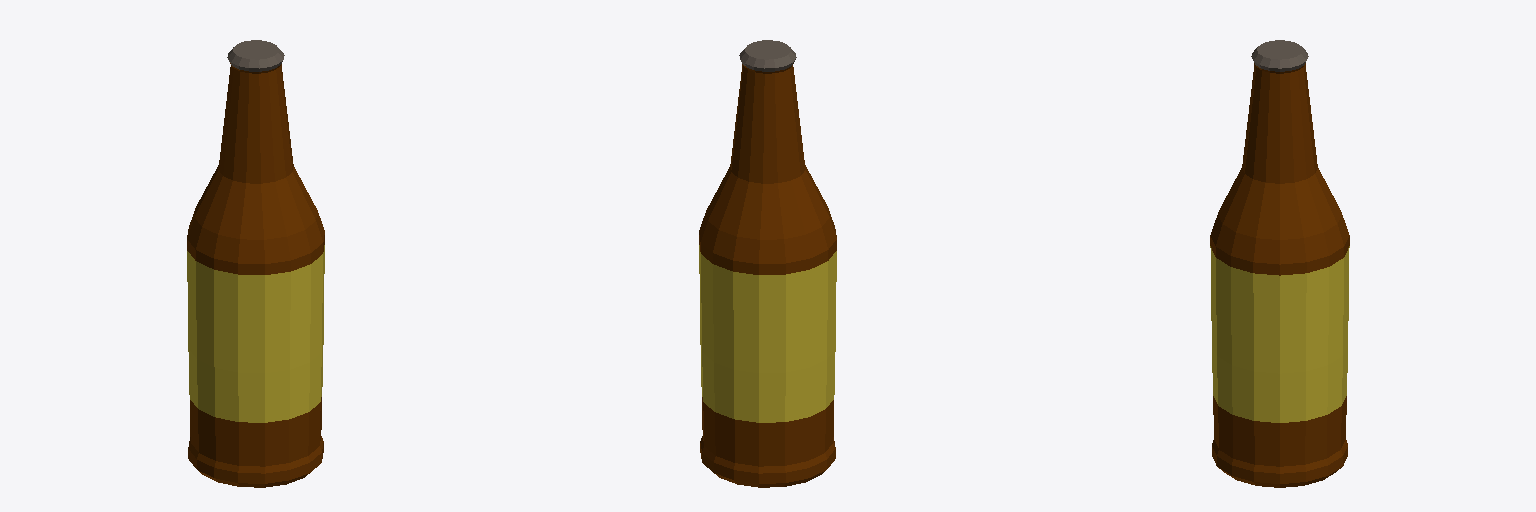
3 renders of one model, left to right at view 1: azimuth 30°, elevation 25°; view 2: azimuth 150°, elevation 25°; view 3: azimuth 270°, elevation 25°, orthographic.
Visible parts, largest first — view 1: Cylinder; view 2: Cylinder; view 3: Cylinder.
Boxes of the visible parts, box(x1,y1,x2,y2) form: Cylinder: box(187, 40, 324, 487); Cylinder: box(699, 40, 836, 487); Cylinder: box(1210, 40, 1349, 487).
Size of the model in its own units: 0.5933 by 1.94 by 0.5933.
Materials: 1 (1 with a texture image).